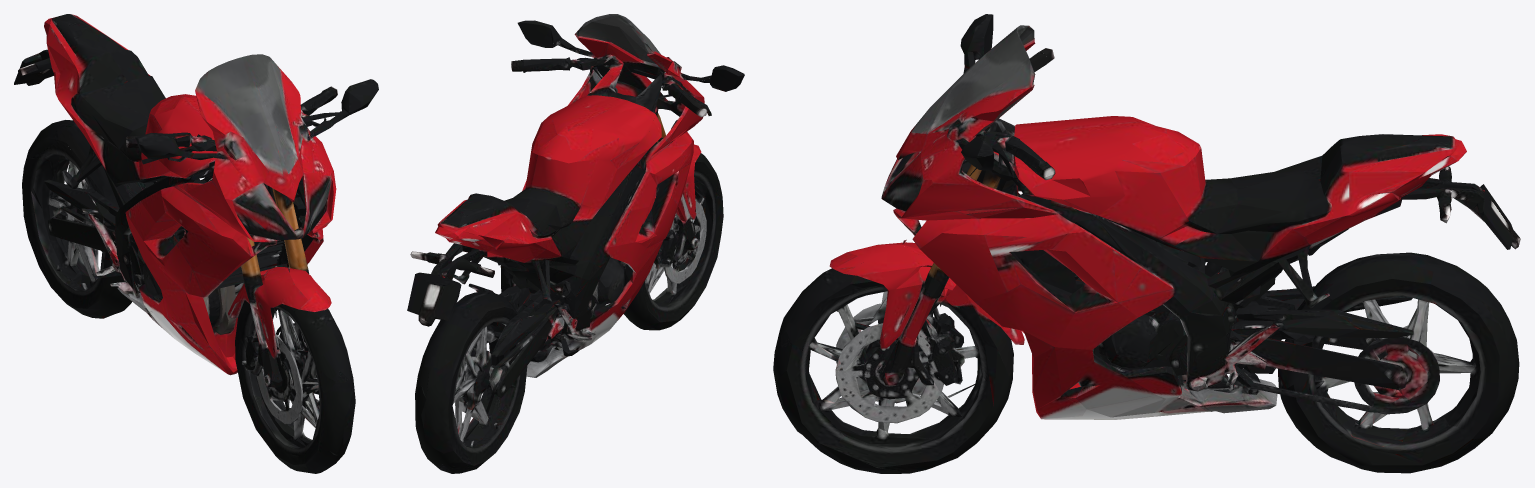
Rendered from sabar.glb.
The picture shows the model from 3 angles, left to right: view 1: azimuth 30°, elevation 25°; view 2: azimuth 150°, elevation 25°; view 3: azimuth 270°, elevation 25°; orthographic projection. The views are drawn at different scales.
Visible parts, largest first — view 1: body, wheel_fr_mesh, wheel_rr_mesh, front_end; view 2: body, wheel_rr_mesh, wheel_fr_mesh, front_end; view 3: body, wheel_fr_mesh, wheel_rr_mesh, front_end.
Part boxes in pixels (x1,y1,x2,y2): body: (14, 14, 378, 414); wheel_fr_mesh: (229, 267, 355, 473); wheel_rr_mesh: (22, 120, 131, 318); front_end: (140, 90, 343, 389); body: (407, 14, 744, 397); wheel_rr_mesh: (415, 291, 527, 473); wheel_fr_mesh: (617, 144, 723, 330); front_end: (511, 38, 710, 261); body: (856, 14, 1520, 419); wheel_fr_mesh: (773, 242, 1024, 473); wheel_rr_mesh: (1270, 252, 1519, 473); front_end: (857, 51, 1051, 385).
Size of the model in its own units: 0.8859 by 1.31 by 2.
Materials: 1 (1 with a texture image).
